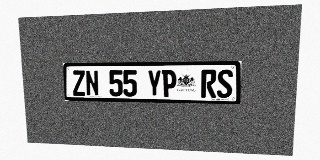5: (123, 70, 137, 97), (109, 70, 123, 96)
N: (85, 70, 99, 96)
P: (162, 70, 176, 97)
R: (201, 69, 217, 98)
S: (217, 69, 233, 98)
Y: (147, 70, 161, 97)
Z: (72, 70, 86, 96)
